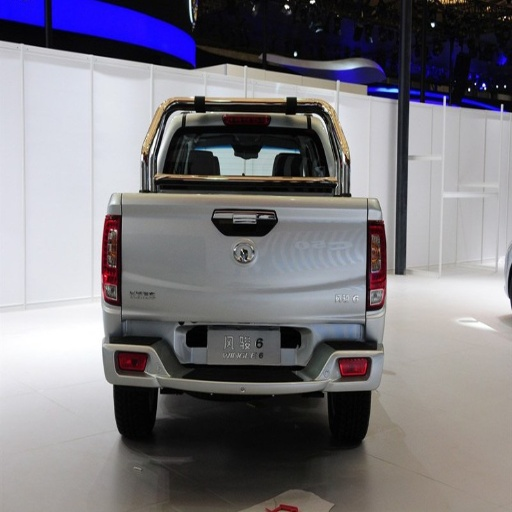back_bumper: (102, 305, 385, 396)
trunk: (125, 180, 370, 332)
